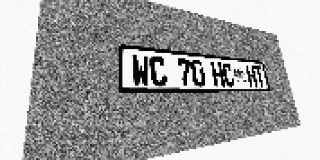0: (190, 60, 206, 86)
7: (177, 58, 193, 86)
C: (149, 56, 167, 86), (221, 63, 235, 87)
H: (210, 62, 225, 86), (245, 65, 258, 87)
T: (254, 66, 266, 87)
W: (131, 54, 151, 86)
